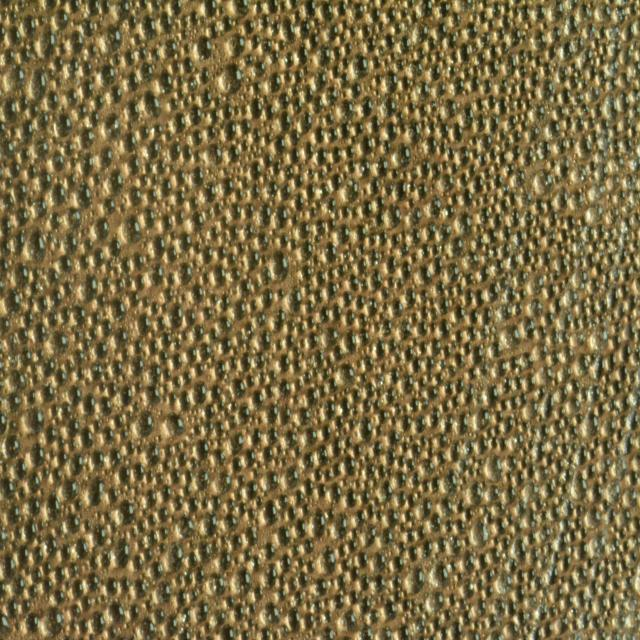dr: (26, 226, 46, 264), (232, 563, 252, 598), (121, 213, 142, 245), (43, 605, 63, 638), (222, 62, 242, 94), (141, 90, 162, 120), (23, 404, 44, 434), (4, 64, 27, 91), (102, 23, 122, 54), (271, 249, 289, 283), (47, 327, 68, 356), (29, 68, 47, 101), (116, 498, 136, 526), (166, 542, 184, 573), (485, 453, 504, 482), (532, 168, 553, 194), (88, 477, 106, 507), (136, 409, 155, 437), (407, 563, 424, 594), (80, 273, 98, 302), (286, 286, 304, 315), (165, 412, 185, 438), (40, 26, 56, 58), (319, 546, 336, 576), (471, 520, 489, 548), (310, 509, 326, 540), (393, 142, 412, 168), (113, 539, 130, 568), (430, 560, 447, 589), (2, 435, 22, 459), (207, 573, 227, 597), (1, 96, 18, 124), (3, 287, 20, 315), (75, 180, 92, 208), (105, 168, 124, 193), (502, 324, 521, 349), (11, 262, 29, 288), (46, 493, 62, 522), (90, 217, 110, 240), (106, 601, 126, 624), (157, 68, 174, 95), (592, 323, 609, 350), (103, 114, 122, 138), (262, 602, 280, 627), (19, 118, 35, 146), (0, 552, 16, 580), (192, 378, 208, 406), (352, 52, 368, 80), (280, 16, 296, 44), (0, 138, 17, 164), (64, 207, 83, 230), (228, 34, 246, 58), (68, 449, 84, 476), (332, 512, 348, 539), (338, 362, 356, 386), (68, 30, 85, 55), (139, 615, 156, 640), (178, 514, 195, 539), (570, 476, 587, 501), (457, 210, 472, 238), (204, 143, 223, 165), (337, 610, 356, 632), (142, 14, 158, 40), (55, 112, 71, 138), (97, 144, 113, 170), (30, 443, 46, 469), (110, 296, 126, 322), (202, 511, 218, 537), (262, 499, 278, 525), (358, 417, 374, 443), (270, 306, 286, 332), (8, 370, 26, 393), (176, 263, 194, 286), (90, 524, 108, 547), (426, 590, 444, 613), (337, 99, 355, 122), (50, 182, 67, 206), (0, 609, 14, 638), (512, 533, 526, 562), (575, 351, 589, 380), (145, 439, 160, 466), (262, 470, 280, 492), (592, 531, 607, 557), (407, 119, 422, 145), (62, 477, 78, 501), (90, 610, 106, 634), (156, 579, 172, 603), (144, 383, 160, 407), (215, 470, 231, 494), (460, 550, 476, 574), (343, 179, 359, 203), (52, 9, 70, 30), (80, 150, 94, 177), (152, 234, 166, 261), (22, 517, 36, 544), (258, 201, 272, 228), (168, 303, 183, 328), (229, 430, 244, 455), (284, 464, 299, 489), (362, 523, 377, 548), (442, 468, 457, 493), (342, 330, 357, 355), (387, 204, 402, 229), (24, 611, 41, 633), (605, 480, 622, 502), (572, 270, 589, 292), (32, 321, 48, 344), (113, 326, 129, 349), (256, 329, 272, 352), (413, 22, 429, 45), (137, 312, 151, 338), (461, 104, 475, 130), (578, 134, 592, 160), (584, 204, 603, 223), (114, 0, 132, 20), (100, 62, 115, 86), (197, 35, 212, 59), (149, 262, 164, 286), (467, 480, 482, 504), (322, 328, 340, 348), (78, 128, 95, 149), (33, 137, 49, 159), (125, 100, 141, 122), (122, 131, 138, 153), (26, 495, 42, 517), (64, 416, 80, 438), (194, 600, 210, 622), (497, 572, 513, 594), (474, 408, 490, 430), (414, 80, 430, 102), (266, 72, 282, 94), (0, 476, 14, 501), (108, 445, 122, 470), (522, 315, 536, 340), (189, 211, 204, 234), (72, 304, 87, 327), (611, 455, 626, 478), (583, 413, 598, 436), (531, 30, 546, 53), (323, 241, 338, 264), (295, 406, 312, 426), (588, 182, 605, 202), (264, 563, 277, 589), (455, 411, 468, 437), (37, 168, 51, 192), (32, 196, 48, 217), (93, 339, 109, 360), (383, 598, 397, 622), (522, 482, 538, 503), (400, 372, 414, 396), (416, 265, 432, 286), (439, 173, 455, 194), (605, 92, 617, 120), (572, 164, 588, 185), (318, 0, 334, 21), (314, 68, 328, 92), (274, 204, 288, 228), (212, 262, 226, 286), (79, 426, 94, 448), (146, 363, 161, 385), (586, 507, 601, 529), (623, 486, 638, 508), (548, 0, 563, 22), (11, 230, 24, 255), (530, 272, 543, 297), (232, 0, 250, 18), (594, 354, 606, 381), (531, 343, 548, 362), (8, 25, 22, 48), (22, 14, 36, 37), (63, 232, 77, 255), (6, 502, 20, 525), (26, 471, 40, 494), (68, 383, 82, 406), (82, 393, 96, 416), (13, 458, 27, 481), (164, 614, 178, 637), (196, 468, 210, 491), (197, 540, 211, 563), (276, 524, 290, 547), (328, 482, 342, 505), (379, 526, 393, 549), (485, 383, 499, 406), (398, 318, 412, 341), (449, 235, 463, 258), (336, 222, 350, 245), (420, 457, 436, 477), (538, 366, 554, 386), (463, 250, 479, 270), (594, 4, 610, 24), (245, 250, 261, 270), (139, 63, 154, 84), (40, 382, 55, 403), (85, 572, 100, 593), (231, 377, 246, 398), (447, 536, 462, 557), (587, 482, 602, 503), (600, 416, 615, 437), (444, 262, 459, 283), (615, 91, 630, 112), (530, 102, 545, 123), (288, 606, 300, 632), (379, 478, 392, 502), (342, 452, 355, 476), (418, 496, 431, 520), (542, 392, 554, 418), (428, 195, 441, 219), (385, 70, 398, 94), (278, 109, 291, 133), (159, 11, 173, 33), (178, 230, 192, 252), (131, 355, 145, 377), (44, 534, 58, 556), (75, 538, 89, 560), (12, 575, 26, 597), (104, 576, 118, 598), (196, 438, 210, 460), (218, 548, 232, 570), (315, 444, 329, 466), (373, 550, 387, 572), (440, 496, 454, 518), (304, 386, 318, 408), (626, 409, 640, 431), (546, 119, 560, 141), (538, 78, 552, 100), (564, 14, 578, 36), (532, 1, 546, 23), (359, 134, 373, 156), (317, 44, 331, 66), (232, 298, 246, 320), (4, 394, 21, 412), (65, 514, 81, 533), (302, 428, 318, 447), (128, 186, 143, 206), (97, 396, 112, 416), (368, 269, 383, 289), (511, 168, 526, 188), (556, 188, 568, 213), (558, 155, 570, 180), (504, 52, 516, 77), (442, 98, 457, 118), (158, 175, 171, 198), (14, 180, 27, 203), (92, 247, 105, 270), (178, 389, 191, 412), (314, 575, 327, 598), (428, 405, 441, 428), (555, 530, 568, 553), (621, 431, 634, 454), (126, 71, 140, 92), (0, 190, 14, 211), (35, 111, 49, 132), (126, 154, 140, 175), (43, 425, 57, 446), (133, 578, 147, 599), (277, 378, 291, 399), (556, 364, 570, 385), (438, 317, 452, 338), (453, 303, 467, 324), (570, 190, 584, 211), (299, 240, 313, 261), (256, 230, 270, 251), (0, 214, 12, 238), (162, 40, 178, 58), (121, 382, 133, 406), (571, 330, 587, 348), (142, 206, 155, 228), (190, 166, 203, 188), (189, 104, 202, 126), (91, 448, 104, 470), (5, 598, 18, 620), (237, 403, 250, 425), (245, 479, 258, 501), (323, 397, 336, 419), (566, 396, 579, 418), (493, 356, 506, 378), (404, 286, 417, 308), (486, 281, 499, 303), (515, 265, 528, 287), (617, 213, 630, 235), (300, 112, 313, 134), (504, 621, 519, 640), (418, 0, 433, 19), (45, 90, 59, 110), (146, 140, 160, 160), (15, 206, 29, 226), (201, 182, 215, 202), (45, 267, 59, 287), (90, 360, 104, 380), (251, 389, 265, 409), (502, 485, 516, 505), (278, 404, 292, 424), (488, 339, 502, 359), (580, 48, 594, 68), (382, 98, 396, 118), (220, 175, 234, 195), (217, 316, 231, 336), (54, 563, 66, 586), (522, 145, 534, 168), (538, 140, 550, 163), (172, 113, 185, 134), (52, 150, 65, 171), (19, 345, 32, 366), (42, 357, 55, 378), (71, 579, 84, 600), (245, 525, 258, 546), (301, 451, 314, 472), (450, 619, 463, 640), (461, 577, 474, 598), (429, 511, 442, 532), (604, 351, 617, 372), (558, 309, 571, 330), (470, 345, 483, 366), (325, 280, 338, 301), (391, 297, 404, 318), (261, 287, 274, 308), (394, 179, 407, 200), (508, 25, 521, 46), (325, 85, 338, 106), (249, 97, 262, 118), (273, 134, 286, 155), (191, 282, 204, 303), (220, 623, 236, 640), (203, 0, 218, 18), (357, 622, 372, 640), (376, 625, 394, 640), (497, 303, 512, 321), (456, 0, 474, 15), (17, 46, 31, 65), (101, 196, 115, 215), (58, 254, 72, 273), (283, 427, 297, 446), (610, 154, 624, 173), (297, 220, 311, 239), (18, 544, 30, 566), (60, 400, 72, 422), (100, 548, 112, 570), (194, 564, 206, 586), (266, 402, 278, 424), (547, 562, 558, 586), (527, 544, 539, 566), (462, 382, 474, 404), (526, 398, 538, 420), (588, 382, 600, 404), (607, 285, 618, 309), (376, 156, 388, 178), (360, 95, 372, 117), (358, 156, 370, 178), (296, 44, 308, 66), (219, 292, 231, 314), (81, 79, 94, 99), (123, 48, 136, 68), (223, 120, 236, 140), (48, 210, 61, 230), (5, 332, 18, 352), (36, 294, 49, 314), (118, 464, 131, 484), (345, 488, 358, 508), (474, 597, 487, 617), (372, 374, 385, 394), (277, 354, 290, 374), (356, 328, 369, 348), (436, 296, 449, 316), (437, 222, 450, 242), (456, 146, 469, 166), (424, 135, 437, 155), (227, 143, 240, 163), (229, 201, 242, 221), (625, 612, 640, 629), (409, 60, 424, 77), (67, 56, 79, 77), (82, 16, 94, 37), (168, 142, 182, 160), (149, 560, 163, 578), (133, 461, 145, 482), (212, 609, 226, 627), (224, 514, 238, 532), (250, 426, 262, 447), (266, 426, 280, 444), (214, 360, 226, 381), (494, 515, 506, 536), (385, 428, 399, 446), (534, 464, 548, 482), (532, 441, 546, 459), (575, 444, 587, 465), (564, 288, 578, 306), (528, 299, 542, 317), (508, 250, 520, 271), (607, 56, 619, 77), (351, 1, 363, 22), (16, 93, 29, 112), (54, 369, 67, 388), (100, 318, 113, 337), (157, 503, 170, 522), (213, 448, 226, 467), (394, 469, 407, 488), (487, 547, 500, 566), (555, 614, 568, 633), (520, 351, 533, 370), (252, 352, 265, 371), (486, 59, 499, 78), (452, 76, 465, 95), (192, 323, 205, 342), (374, 338, 385, 360), (419, 158, 430, 180), (459, 42, 470, 64), (200, 88, 212, 108), (160, 212, 172, 232), (16, 326, 28, 346), (108, 237, 120, 257), (165, 243, 177, 263), (201, 244, 213, 264), (144, 487, 156, 507), (244, 448, 256, 468), (279, 552, 291, 572), (295, 518, 307, 538), (330, 436, 342, 456), (374, 572, 386, 592), (421, 539, 433, 559), (339, 396, 351, 416), (414, 414, 426, 434), (594, 594, 606, 614), (576, 566, 588, 586), (511, 432, 523, 452), (522, 372, 534, 392), (620, 342, 632, 362), (623, 321, 635, 341), (306, 332, 318, 352), (386, 254, 398, 274), (400, 260, 412, 280), (540, 247, 552, 267), (368, 248, 380, 268), (452, 122, 464, 142), (480, 133, 492, 153), (578, 2, 590, 22), (385, 122, 397, 142), (331, 172, 343, 192), (250, 160, 262, 180), (238, 278, 250, 298), (65, 88, 78, 106), (26, 101, 39, 119), (101, 427, 114, 445), (493, 598, 506, 616), (575, 589, 588, 607), (504, 453, 517, 471), (617, 394, 630, 412), (543, 282, 556, 300), (255, 309, 268, 327), (408, 207, 421, 225), (315, 146, 328, 164), (240, 352, 251, 373), (345, 307, 356, 328), (409, 226, 420, 247), (557, 64, 568, 85), (355, 506, 365, 529), (9, 160, 21, 179), (22, 309, 34, 328), (72, 347, 84, 366), (132, 251, 144, 270), (187, 494, 199, 513), (230, 455, 242, 474), (386, 507, 398, 526), (576, 541, 588, 560), (626, 294, 638, 313), (429, 337, 441, 356), (556, 255, 568, 274), (303, 0, 315, 19), (326, 22, 338, 41), (311, 94, 323, 113), (265, 179, 277, 198), (199, 342, 211, 361), (85, 0, 100, 15), (2, 48, 16, 64), (52, 588, 66, 604), (486, 485, 500, 501), (595, 150, 609, 166), (397, 623, 410, 640), (607, 175, 620, 192), (299, 265, 312, 282), (276, 91, 289, 108), (0, 238, 11, 258), (32, 545, 43, 565), (176, 588, 187, 608), (526, 508, 536, 530), (588, 578, 599, 598), (381, 318, 392, 338), (432, 255, 443, 275), (425, 221, 436, 241), (430, 160, 441, 180), (361, 200, 372, 220), (110, 86, 122, 104), (174, 168, 186, 186), (62, 140, 74, 158), (0, 526, 9, 550), (111, 358, 123, 376), (119, 576, 131, 594), (132, 553, 144, 571), (160, 330, 172, 348), (186, 550, 198, 568), (230, 532, 242, 550), (264, 542, 276, 560), (357, 550, 369, 568), (412, 614, 424, 632), (536, 603, 548, 621), (502, 416, 514, 434), (578, 611, 590, 629), (540, 523, 552, 541), (608, 537, 620, 555), (366, 297, 378, 315), (522, 209, 534, 227), (554, 136, 566, 154), (618, 71, 630, 89), (620, 46, 632, 64), (355, 256, 367, 274), (354, 224, 366, 242), (242, 222, 254, 240), (184, 308, 196, 326), (61, 542, 71, 563), (450, 439, 460, 460), (630, 387, 640, 408), (474, 286, 484, 307), (568, 74, 578, 95), (436, 20, 446, 41), (134, 273, 145, 292), (0, 317, 11, 336), (57, 449, 68, 468), (400, 414, 411, 433), (416, 319, 427, 338), (243, 320, 254, 339), (514, 229, 525, 248), (479, 206, 490, 225), (461, 188, 472, 207), (596, 163, 607, 182), (621, 135, 632, 154), (496, 76, 507, 95), (369, 176, 380, 195), (339, 121, 350, 140), (185, 343, 196, 362), (66, 0, 82, 13), (170, 0, 183, 16), (493, 501, 506, 517), (612, 613, 625, 629), (582, 463, 595, 479), (561, 346, 574, 362), (627, 189, 640, 205), (631, 450, 640, 473), (81, 59, 93, 76), (221, 14, 233, 31), (145, 187, 157, 204), (186, 75, 198, 92), (174, 209, 186, 226), (80, 595, 92, 612), (154, 607, 166, 624), (171, 353, 183, 370), (302, 478, 314, 495), (316, 482, 328, 499), (559, 514, 571, 531), (543, 482, 555, 499), (552, 458, 564, 475), (618, 509, 630, 526), (598, 455, 610, 472), (555, 386, 567, 403), (616, 363, 628, 380), (620, 265, 632, 282), (318, 305, 330, 322), (348, 274, 360, 291), (419, 243, 431, 260), (619, 115, 631, 132), (466, 22, 478, 39), (108, 484, 118, 504), (386, 447, 396, 467), (488, 113, 498, 133), (304, 141, 314, 161), (182, 144, 193, 162), (47, 310, 58, 328), (50, 289, 61, 307), (60, 305, 71, 323), (52, 467, 63, 485), (128, 602, 139, 620), (160, 484, 171, 502), (233, 602, 244, 620), (303, 612, 314, 630), (298, 570, 309, 588), (359, 596, 370, 614), (392, 555, 403, 573), (477, 552, 488, 570), (410, 471, 421, 489), (377, 408, 388, 426), (442, 414, 453, 432), (477, 436, 488, 454), (549, 504, 560, 522), (566, 424, 577, 442), (500, 376, 511, 394), (332, 344, 343, 362), (480, 307, 491, 325), (521, 247, 532, 265), (631, 210, 640, 232), (485, 226, 496, 244), (509, 208, 520, 226), (475, 114, 486, 132), (428, 64, 439, 82), (446, 31, 457, 49), (384, 32, 395, 50), (374, 210, 385, 228), (283, 164, 294, 182), (220, 336, 231, 354), (622, 173, 636, 187), (613, 190, 626, 205), (41, 0, 57, 12), (92, 94, 104, 110), (198, 68, 210, 84), (221, 104, 233, 120), (41, 577, 53, 593), (525, 594, 537, 610), (622, 628, 638, 640), (604, 508, 616, 524), (536, 424, 548, 440), (558, 330, 570, 346), (552, 299, 564, 315), (604, 208, 616, 224), (520, 190, 532, 206), (561, 42, 573, 58), (434, 82, 446, 98), (253, 60, 265, 76), (239, 118, 251, 134), (279, 182, 291, 198), (288, 148, 300, 164), (128, 290, 138, 309), (278, 491, 288, 510), (517, 608, 527, 627), (570, 377, 580, 396), (331, 304, 341, 323), (500, 241, 510, 260), (561, 85, 571, 104), (480, 31, 490, 50), (300, 19, 310, 38), (308, 32, 318, 51), (261, 36, 271, 55), (260, 266, 270, 285), (52, 56, 63, 73), (20, 146, 31, 163), (175, 189, 186, 206), (191, 129, 202, 146), (8, 353, 19, 370), (132, 338, 143, 355), (68, 561, 79, 578), (20, 598, 31, 615), (31, 566, 42, 583), (359, 574, 370, 591), (365, 462, 376, 479), (464, 629, 481, 640), (436, 536, 447, 553), (487, 629, 504, 640), (543, 310, 554, 327), (583, 251, 594, 268), (357, 311, 368, 328), (468, 308, 479, 325), (501, 223, 512, 240), (458, 171, 469, 188), (472, 176, 483, 193), (389, 233, 400, 250), (599, 132, 610, 149), (469, 75, 480, 92), (585, 22, 596, 39), (614, 6, 625, 23), (439, 1, 450, 18), (385, 6, 396, 23), (293, 193, 304, 210), (315, 218, 326, 235), (283, 51, 294, 68), (290, 129, 301, 146), (244, 202, 255, 219), (0, 409, 7, 435), (321, 627, 335, 640), (138, 124, 150, 139), (156, 314, 166, 332), (78, 616, 88, 634), (178, 625, 190, 640), (148, 529, 158, 547), (210, 383, 220, 401), (264, 444, 274, 462), (251, 555, 261, 573), (430, 476, 440, 494), (506, 599, 516, 617), (553, 584, 563, 602), (458, 456, 468, 474), (465, 437, 475, 455), (426, 385, 438, 400), (561, 553, 571, 571), (598, 296, 607, 316), (612, 264, 621, 284), (384, 386, 394, 404), (412, 356, 422, 374), (424, 356, 436, 371), (363, 355, 373, 373), (466, 324, 476, 342), (575, 238, 585, 256), (583, 224, 593, 242), (378, 229, 388, 247), (631, 154, 640, 174), (630, 103, 640, 121), (623, 23, 633, 41), (400, 35, 410, 53), (303, 84, 313, 102), (250, 182, 260, 200), (87, 44, 98, 60), (151, 123, 162, 139), (243, 18, 254, 34), (210, 494, 221, 510), (333, 591, 344, 607), (294, 489, 305, 505), (487, 614, 498, 630), (455, 519, 466, 535), (371, 440, 382, 456), (436, 432, 447, 448), (590, 629, 606, 640), (606, 629, 622, 640), (600, 566, 611, 582), (563, 498, 574, 514), (466, 366, 477, 382), (588, 276, 599, 292), (454, 352, 465, 368), (594, 224, 605, 240), (545, 230, 556, 246), (492, 213, 503, 229), (554, 104, 565, 120), (609, 24, 620, 40), (336, 0, 347, 16), (251, 127, 262, 143), (262, 152, 273, 168), (208, 327, 219, 343), (498, 96, 507, 115), (89, 110, 99, 127), (182, 56, 192, 73), (26, 164, 36, 181), (79, 253, 89, 270), (26, 387, 36, 404), (119, 256, 129, 273), (148, 339, 158, 356), (182, 369, 192, 386), (253, 585, 263, 602), (340, 557, 350, 574), (566, 575, 576, 592), (478, 360, 488, 377), (548, 328, 558, 345), (403, 343, 413, 360), (313, 287, 323, 304), (342, 290, 352, 307), (478, 264, 488, 281), (493, 258, 503, 275), (474, 234, 484, 251), (534, 198, 544, 215), (529, 125, 539, 142), (550, 26, 560, 43), (597, 70, 607, 87), (607, 76, 617, 93), (370, 6, 380, 23), (351, 81, 361, 98), (370, 116, 380, 133), (306, 182, 316, 199), (384, 179, 394, 196), (327, 126, 337, 143), (314, 126, 324, 143), (265, 0, 278, 13), (626, 598, 638, 612), (632, 347, 640, 368), (100, 0, 111, 15), (155, 159, 166, 174), (107, 382, 118, 397), (124, 439, 135, 454), (359, 489, 370, 504), (404, 528, 415, 543), (615, 304, 626, 319), (327, 378, 338, 393), (450, 10, 461, 25), (365, 37, 376, 52), (229, 266, 240, 281), (202, 306, 213, 321), (184, 568, 193, 586), (455, 376, 464, 394), (631, 515, 640, 533), (389, 367, 398, 385), (314, 349, 323, 367), (464, 288, 473, 306), (382, 138, 391, 156), (76, 103, 86, 119), (137, 46, 147, 62), (66, 172, 76, 188), (91, 310, 101, 326), (96, 292, 106, 308), (101, 276, 111, 292), (114, 412, 124, 428), (70, 603, 80, 619), (88, 554, 98, 570), (158, 348, 168, 364), (170, 468, 180, 484), (174, 495, 184, 511), (214, 420, 224, 436), (408, 544, 418, 560), (514, 586, 524, 602), (321, 423, 331, 439), (264, 382, 274, 398), (362, 398, 372, 414), (592, 561, 602, 577), (548, 437, 558, 453), (355, 294, 365, 310), (336, 262, 346, 278), (314, 270, 324, 286), (235, 330, 245, 346), (434, 280, 444, 296), (399, 242, 409, 258), (444, 204, 454, 220), (417, 183, 427, 199), (588, 84, 598, 100), (491, 1, 501, 17), (488, 43, 498, 59), (501, 13, 511, 29), (520, 5, 530, 21), (294, 173, 304, 189), (332, 147, 342, 163), (325, 196, 335, 212), (250, 34, 260, 50), (292, 98, 302, 114), (0, 575, 7, 597), (53, 522, 64, 536), (27, 584, 38, 598), (158, 525, 169, 539), (203, 404, 214, 418), (368, 608, 379, 622), (504, 287, 515, 301), (492, 174, 503, 188), (564, 0, 578, 11), (216, 245, 227, 259), (204, 419, 213, 436), (228, 414, 237, 431), (288, 575, 297, 592), (350, 565, 359, 582), (397, 489, 406, 506), (516, 497, 525, 514), (368, 230, 377, 247), (507, 114, 516, 131), (518, 78, 527, 95), (340, 71, 349, 88), (195, 360, 204, 377), (170, 59, 180, 74), (190, 11, 200, 26), (189, 196, 199, 211), (76, 365, 86, 380), (88, 326, 98, 341), (162, 288, 172, 303), (42, 561, 52, 576), (188, 588, 198, 603), (260, 625, 270, 640), (294, 590, 304, 605), (348, 590, 358, 605), (531, 625, 541, 640), (410, 442, 420, 457), (365, 382, 375, 397), (600, 439, 610, 454), (552, 419, 562, 434), (612, 380, 622, 395), (537, 325, 547, 340), (408, 397, 418, 412), (292, 359, 302, 374), (612, 237, 622, 252), (579, 102, 589, 117), (482, 79, 492, 94), (319, 182, 329, 197), (260, 13, 270, 28), (228, 225, 238, 240), (0, 23, 7, 44), (1, 257, 8, 278), (150, 46, 159, 62), (124, 274, 133, 290), (107, 624, 116, 640), (177, 452, 186, 468), (417, 524, 426, 540), (462, 610, 471, 626), (456, 498, 465, 514), (508, 557, 517, 573), (544, 621, 553, 637), (351, 386, 360, 402), (609, 557, 618, 573), (617, 248, 626, 264), (418, 340, 427, 356), (548, 212, 557, 228), (593, 101, 602, 117), (575, 116, 584, 132), (530, 70, 539, 86), (450, 50, 459, 66), (476, 50, 485, 66), (439, 122, 448, 138), (270, 20, 279, 36), (209, 224, 218, 240), (334, 415, 345, 428), (387, 339, 398, 352), (599, 118, 610, 131), (0, 280, 7, 300), (138, 172, 148, 186), (64, 358, 74, 372), (114, 278, 124, 292), (143, 548, 153, 562), (136, 518, 146, 532), (146, 514, 156, 528), (171, 376, 181, 390), (289, 542, 299, 556), (392, 574, 402, 588), (436, 450, 446, 464), (500, 536, 510, 550), (395, 454, 405, 468), (406, 457, 416, 471), (564, 594, 574, 608), (628, 471, 638, 485), (442, 344, 452, 358), (454, 329, 464, 343), (505, 162, 515, 176), (511, 146, 521, 160), (630, 88, 640, 102), (610, 40, 620, 54), (408, 10, 418, 24), (340, 205, 350, 219), (254, 1, 264, 15), (268, 50, 278, 64), (226, 252, 236, 266), (508, 190, 516, 207), (127, 15, 136, 30), (73, 328, 82, 343), (81, 336, 90, 351), (162, 367, 171, 382), (168, 390, 177, 405), (243, 547, 252, 562), (277, 587, 286, 602), (323, 609, 332, 624), (337, 573, 346, 588), (366, 503, 375, 518), (353, 443, 362, 458), (377, 464, 386, 479), (293, 376, 302, 391), (318, 383, 327, 398), (607, 594, 616, 609), (581, 313, 590, 328), (417, 376, 426, 391), (296, 321, 305, 336), (380, 285, 389, 300), (419, 304, 428, 319), (438, 140, 447, 155), (611, 139, 620, 154), (631, 62, 640, 77), (628, 2, 637, 17), (361, 23, 370, 38), (220, 215, 229, 230), (279, 232, 288, 247), (228, 356, 237, 371), (0, 119, 7, 138), (16, 0, 26, 13), (154, 471, 164, 484), (509, 356, 519, 369), (531, 237, 541, 250), (427, 38, 437, 51), (210, 23, 218, 39), (182, 607, 190, 623), (226, 497, 234, 513), (288, 506, 296, 522), (246, 372, 254, 388), (445, 380, 453, 396), (629, 549, 637, 565), (527, 462, 535, 478), (579, 386, 587, 402), (628, 368, 636, 384), (514, 301, 522, 317), (632, 238, 640, 254), (587, 114, 595, 130), (542, 61, 550, 77), (548, 44, 556, 60), (588, 63, 596, 79), (496, 25, 504, 41), (402, 74, 410, 90), (354, 120, 362, 136), (202, 269, 210, 285), (206, 125, 215, 139), (210, 110, 219, 124), (29, 280, 38, 294), (193, 240, 202, 254), (150, 302, 159, 316), (121, 348, 130, 362), (174, 572, 183, 586), (145, 469, 154, 483), (313, 598, 322, 612), (348, 538, 357, 552), (439, 626, 448, 640), (516, 568, 525, 582), (527, 528, 536, 542), (257, 370, 266, 384), (302, 371, 311, 385), (441, 398, 450, 412), (513, 376, 522, 390), (605, 252, 614, 266), (419, 396, 428, 410), (435, 371, 444, 385), (285, 335, 294, 349), (286, 319, 295, 333), (479, 326, 488, 340), (465, 271, 474, 285), (621, 232, 630, 246), (498, 152, 507, 166), (587, 160, 596, 174), (475, 96, 484, 110), (518, 64, 527, 78), (517, 48, 526, 62), (478, 9, 487, 23), (433, 49, 442, 63), (333, 45, 342, 59), (345, 144, 354, 158), (327, 218, 336, 232), (243, 52, 252, 66), (263, 132, 272, 146), (234, 187, 243, 201), (272, 160, 281, 174), (213, 202, 222, 216), (8, 10, 18, 22), (168, 98, 178, 110), (192, 150, 202, 162), (144, 161, 154, 173), (1, 459, 9, 474), (332, 461, 340, 476), (294, 444, 302, 459), (458, 598, 468, 610), (534, 576, 542, 591), (592, 616, 602, 628), (610, 576, 620, 588), (622, 575, 632, 587), (559, 442, 569, 454), (514, 472, 524, 484), (608, 397, 616, 412), (508, 397, 518, 409), (474, 394, 484, 406), (612, 334, 620, 349), (418, 290, 428, 302), (478, 152, 486, 167), (512, 130, 522, 142), (573, 38, 583, 50), (316, 168, 326, 180), (294, 69, 302, 84), (566, 114, 573, 131), (180, 15, 189, 28), (92, 172, 101, 185), (83, 237, 92, 250), (26, 296, 35, 309), (165, 272, 174, 285), (63, 281, 72, 294), (50, 404, 59, 417), (57, 436, 66, 449), (67, 438, 76, 451), (161, 460, 170, 473), (296, 555, 305, 568), (304, 539, 313, 552), (392, 402, 401, 415), (552, 549, 561, 562), (539, 510, 548, 523), (535, 385, 544, 398), (274, 338, 283, 351), (292, 346, 301, 359), (393, 22, 402, 35), (395, 57, 404, 70), (375, 197, 384, 210), (241, 177, 250, 190), (204, 207, 213, 220), (634, 17, 640, 36), (32, 266, 40, 280), (13, 526, 21, 540), (36, 348, 44, 362), (75, 498, 83, 512), (68, 618, 76, 632), (103, 508, 111, 522), (185, 468, 193, 482), (184, 484, 192, 498), (236, 474, 244, 488), (238, 502, 246, 516), (280, 622, 288, 636), (338, 543, 346, 557), (433, 616, 441, 630), (486, 584, 494, 598), (465, 506, 473, 520), (514, 519, 522, 533), (375, 422, 383, 436), (500, 435, 508, 449), (600, 582, 608, 596), (568, 528, 576, 542), (563, 467, 571, 481), (550, 349, 558, 363), (578, 299, 586, 313), (594, 260, 602, 274), (306, 315, 314, 329), (360, 278, 368, 292), (304, 282, 312, 296), (500, 276, 508, 290), (560, 228, 568, 242), (566, 215, 574, 229), (539, 222, 547, 236), (408, 179, 416, 193), (490, 148, 498, 162), (447, 145, 455, 159), (546, 198, 554, 212), (575, 92, 583, 106), (488, 95, 496, 109), (373, 55, 381, 69), (400, 6, 408, 20), (332, 64, 340, 78), (347, 158, 355, 172), (209, 292, 217, 306), (111, 54, 121, 65), (150, 0, 160, 11), (148, 174, 158, 185), (203, 622, 213, 633), (544, 452, 554, 463), (17, 486, 26, 498), (29, 362, 38, 374), (109, 520, 118, 532), (119, 428, 128, 440), (247, 508, 256, 520), (398, 541, 407, 553), (484, 570, 493, 582), (535, 498, 544, 510), (565, 454, 574, 466), (556, 406, 565, 418), (597, 403, 606, 415), (518, 393, 527, 405), (572, 316, 581, 328), (430, 308, 439, 320), (499, 200, 508, 212), (499, 42, 508, 54), (343, 42, 352, 54), (278, 1, 287, 13), (288, 0, 300, 9), (252, 80, 261, 92), (240, 139, 249, 151), (165, 443, 172, 458), (226, 593, 233, 608), (598, 25, 605, 40), (428, 119, 435, 134), (58, 42, 66, 55), (134, 33, 142, 46), (94, 419, 102, 432), (134, 381, 142, 394), (41, 468, 49, 481), (174, 338, 182, 351), (200, 495, 208, 508), (234, 488, 242, 501), (255, 494, 263, 507), (278, 574, 286, 587), (314, 467, 322, 480), (402, 598, 410, 611), (344, 435, 352, 448), (476, 579, 484, 592), (506, 513, 514, 526), (268, 369, 276, 382), (347, 417, 355, 430), (491, 436, 499, 449), (305, 355, 313, 368), (321, 368, 329, 381), (327, 267, 335, 280), (606, 227, 614, 240), (575, 224, 583, 237), (451, 192, 459, 205), (410, 167, 418, 180), (468, 163, 476, 176), (631, 126, 639, 139), (526, 49, 534, 62), (602, 42, 610, 55), (487, 17, 495, 30), (416, 47, 424, 60), (400, 122, 408, 135), (349, 24, 357, 37), (306, 167, 314, 180), (325, 113, 333, 126), (284, 69, 292, 82), (292, 84, 300, 97), (180, 328, 188, 341), (634, 44, 640, 61), (0, 162, 5, 182), (194, 630, 204, 640), (175, 75, 184, 86), (164, 130, 173, 141), (374, 510, 383, 521), (372, 399, 381, 410), (520, 420, 529, 431), (555, 283, 564, 294), (501, 184, 510, 195), (449, 592, 456, 606), (569, 258, 576, 272), (603, 270, 610, 284), (633, 262, 640, 276), (456, 281, 463, 295), (484, 167, 491, 181), (409, 100, 416, 114), (419, 103, 426, 117), (351, 206, 358, 220), (253, 279, 260, 293), (250, 299, 257, 313), (0, 10, 8, 22), (46, 68, 54, 80), (4, 176, 12, 188), (9, 125, 17, 137), (142, 296, 150, 308), (32, 374, 40, 386), (8, 419, 16, 431), (144, 598, 152, 610), (136, 536, 144, 548), (223, 389, 231, 401), (306, 560, 314, 572), (302, 503, 310, 515), (324, 469, 332, 481), (486, 512, 494, 524), (451, 395, 459, 407), (620, 559, 628, 571), (574, 518, 582, 530), (306, 301, 314, 313), (448, 365, 456, 377), (463, 342, 471, 354), (395, 277, 403, 289), (277, 288, 285, 300), (431, 243, 439, 255), (450, 162, 458, 174), (496, 140, 504, 152), (498, 128, 506, 140), (590, 131, 598, 143), (567, 103, 575, 115), (568, 137, 576, 149), (534, 55, 542, 67), (599, 54, 607, 66), (374, 72, 382, 84), (378, 45, 386, 57), (429, 100, 437, 112), (374, 135, 382, 147), (395, 110, 403, 122), (341, 56, 349, 68), (236, 242, 244, 254), (177, 87, 184, 100), (54, 237, 61, 250), (106, 259, 113, 272), (37, 518, 44, 531), (194, 423, 201, 436), (249, 602, 256, 615), (272, 627, 279, 640), (326, 506, 333, 519), (422, 479, 429, 492), (527, 567, 534, 580), (576, 504, 583, 517), (577, 255, 584, 268), (471, 41, 478, 54), (138, 0, 147, 10), (0, 356, 5, 374), (214, 97, 222, 108), (240, 629, 248, 640), (314, 615, 322, 626), (467, 466, 475, 477), (519, 288, 527, 299), (484, 181, 492, 192), (440, 161, 448, 172), (463, 67, 471, 78), (503, 1, 511, 12), (290, 238, 298, 249), (309, 206, 317, 217), (290, 214, 298, 225), (181, 30, 188, 42), (183, 96, 190, 108), (46, 230, 53, 242), (84, 520, 91, 532), (218, 399, 225, 411), (281, 455, 288, 467), (444, 609, 451, 621), (445, 520, 452, 532), (549, 605, 556, 617), (540, 555, 547, 567), (419, 435, 426, 447), (495, 409, 502, 421), (622, 540, 629, 552), (589, 303, 596, 315), (429, 322, 436, 334), (245, 339, 252, 351), (552, 268, 559, 280), (483, 252, 490, 264), (611, 124, 618, 136), (516, 96, 522, 110), (570, 62, 577, 74), (426, 52, 433, 64), (378, 22, 385, 34), (294, 10, 301, 22), (406, 0, 415, 9), (174, 441, 182, 451), (229, 402, 237, 412), (592, 439, 600, 449), (491, 246, 499, 256), (556, 242, 564, 252), (492, 162, 500, 172), (503, 139, 511, 149), (312, 254, 320, 264), (302, 64, 310, 74), (260, 254, 268, 264), (493, 192, 499, 205), (581, 79, 587, 92), (183, 44, 190, 55), (98, 381, 105, 392), (190, 457, 197, 468), (216, 436, 223, 447), (399, 522, 406, 533), (464, 535, 471, 546), (493, 535, 500, 546), (622, 587, 629, 598), (561, 483, 568, 494), (614, 321, 621, 332), (411, 312, 418, 323), (387, 276, 394, 287), (447, 285, 454, 296), (592, 240, 599, 251), (602, 240, 609, 251), (525, 99, 532, 110), (508, 102, 515, 113), (420, 119, 427, 130), (341, 19, 348, 30), (391, 168, 398, 179), (278, 39, 285, 50), (262, 172, 269, 183), (474, 617, 480, 629), (402, 440, 408, 452), (572, 618, 578, 630), (510, 82, 516, 94), (512, 4, 518, 16), (136, 444, 143, 454), (162, 383, 169, 393), (211, 542, 218, 552), (220, 534, 227, 544), (476, 467, 483, 477), (448, 66, 455, 76), (339, 32, 346, 42), (344, 249, 351, 259), (315, 198, 322, 208), (233, 105, 240, 115), (0, 338, 4, 355), (159, 543, 165, 554), (248, 617, 254, 628), (276, 442, 282, 453), (630, 251, 636, 262), (439, 358, 445, 369), (472, 148, 478, 159), (594, 39, 600, 50), (263, 93, 269, 104), (243, 163, 249, 174), (482, 0, 489, 9), (435, 113, 442, 122), (0, 378, 5, 390), (411, 595, 416, 607), (426, 624, 432, 634), (599, 250, 605, 260), (483, 194, 489, 204), (379, 251, 385, 261), (522, 120, 528, 130), (531, 89, 537, 99), (473, 65, 479, 75), (384, 58, 390, 68), (326, 162, 332, 172), (358, 243, 364, 253), (314, 234, 320, 243), (241, 105, 247, 114), (298, 163, 304, 172), (223, 167, 229, 176), (314, 17, 319, 26), (181, 293, 186, 302)
